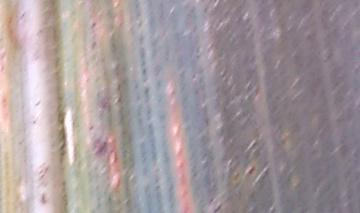tarspot: (91, 136, 108, 157), (245, 163, 256, 175), (17, 11, 28, 22), (212, 202, 223, 213), (39, 191, 47, 205), (88, 40, 97, 51), (34, 98, 43, 108), (232, 171, 241, 180), (190, 72, 198, 80), (88, 21, 97, 28), (30, 118, 39, 125), (87, 125, 95, 132), (206, 195, 213, 202)
